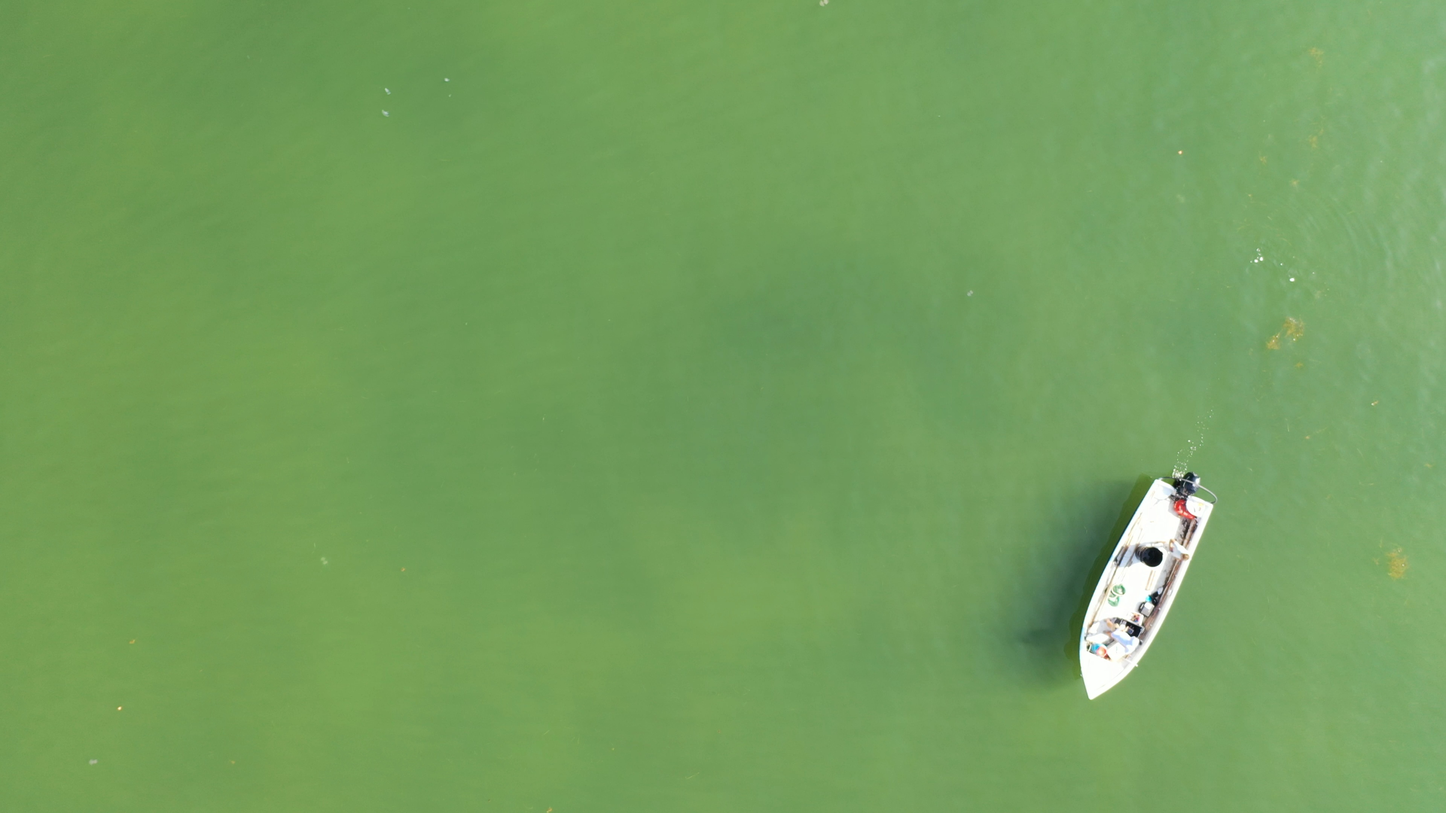meduse: (1177, 195, 1185, 205), (320, 557, 328, 566), (89, 758, 97, 766), (967, 291, 975, 297)
